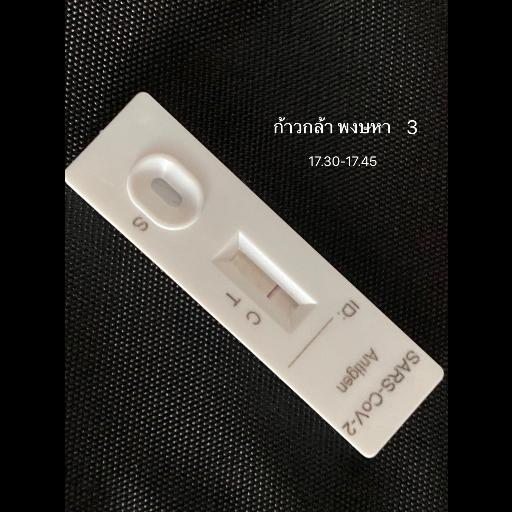Neg: (64, 88, 446, 461)
